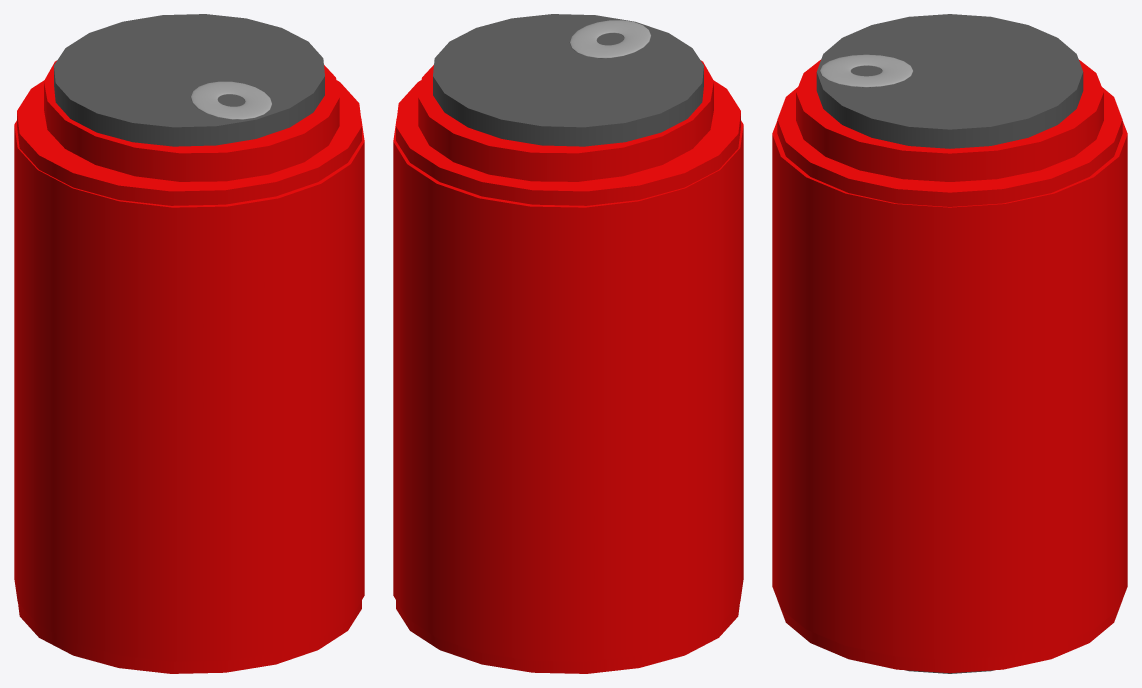
Rendered from Soda Can Export.fbx.
3 views of the same model, side by side, from view 1: azimuth 30°, elevation 25°; view 2: azimuth 150°, elevation 25°; view 3: azimuth 270°, elevation 25° (orthographic).
Visible parts, largest first — view 1: pCylinder12; view 2: pCylinder12; view 3: pCylinder12.
Boxes of the visible parts, <box> form: pCylinder12: <box>14,14,364,673</box>; pCylinder12: <box>393,14,743,673</box>; pCylinder12: <box>772,14,1127,673</box>.
Bounding box in the file's own units: 0.7348 × 1.27 × 0.7489.
